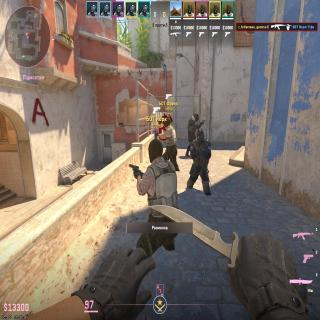CT-Body: (187, 127, 211, 195), (187, 113, 199, 140)
CT-Head: (197, 127, 204, 143), (194, 113, 199, 120)
T-Body: (141, 140, 178, 248), (163, 117, 177, 168)
T-Head: (148, 140, 164, 161), (165, 118, 171, 127)
